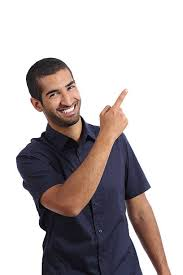hand: (93, 87, 140, 134)
